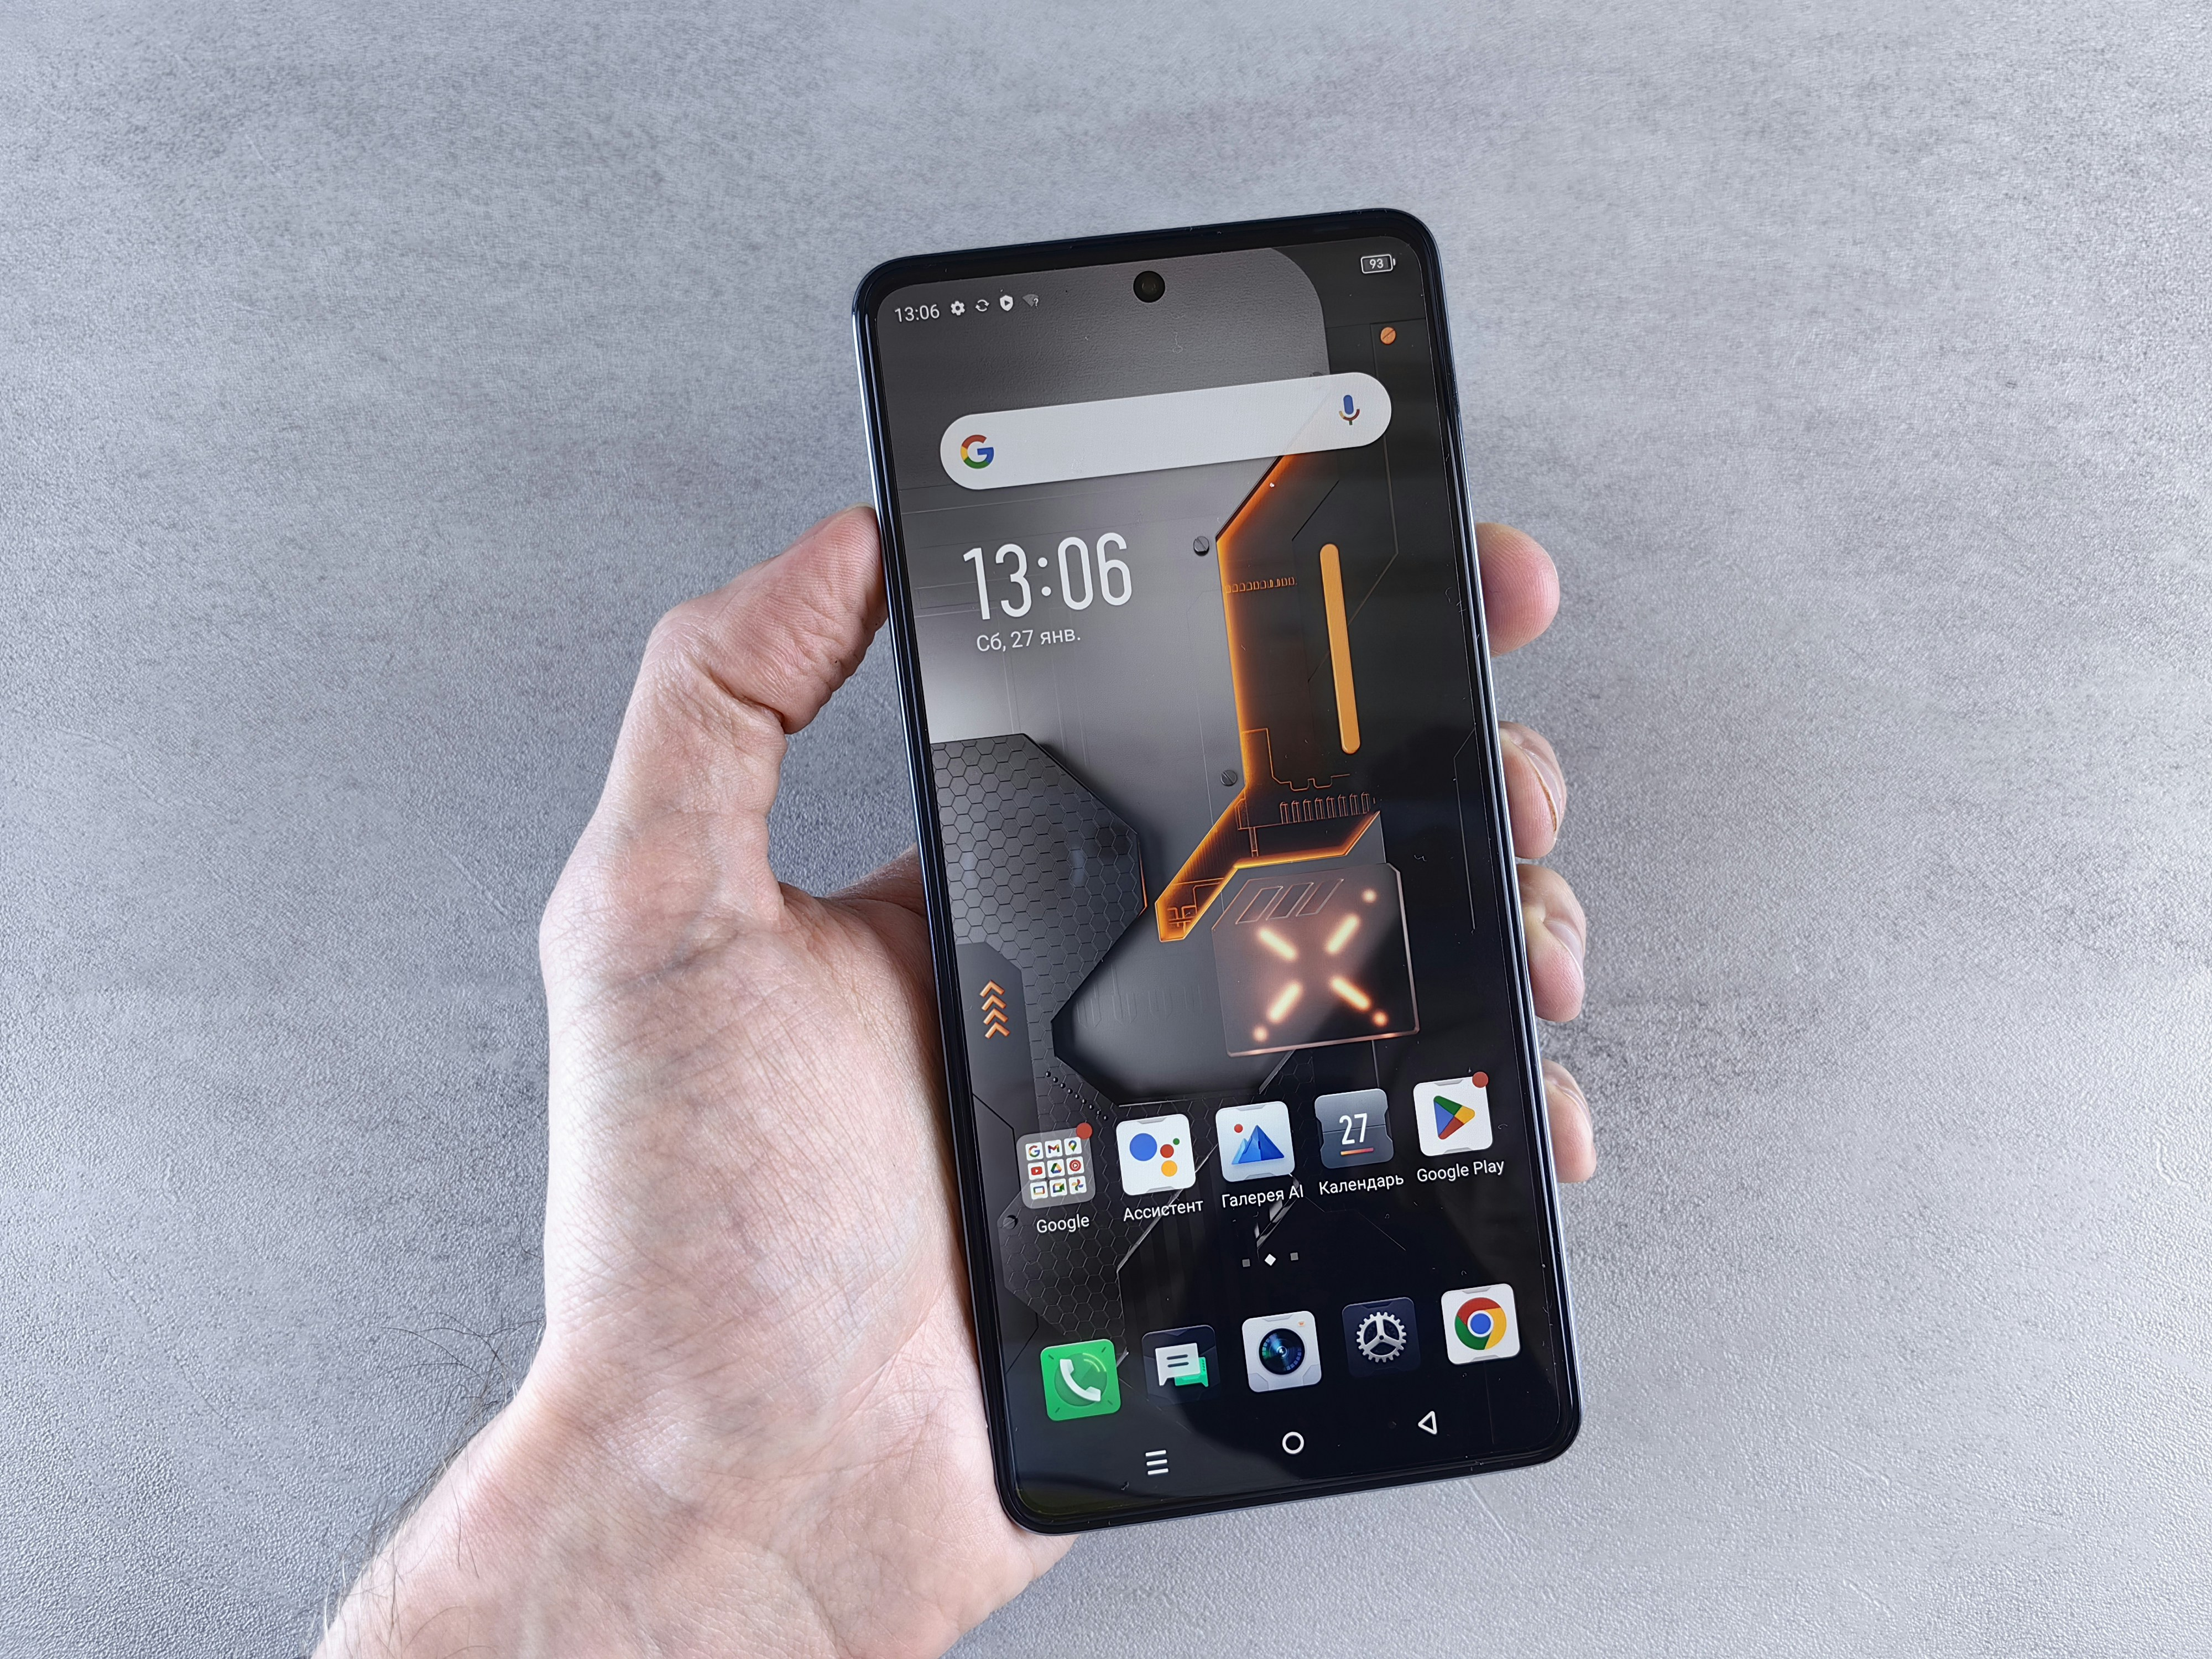p6: (836, 195, 1604, 1544)
